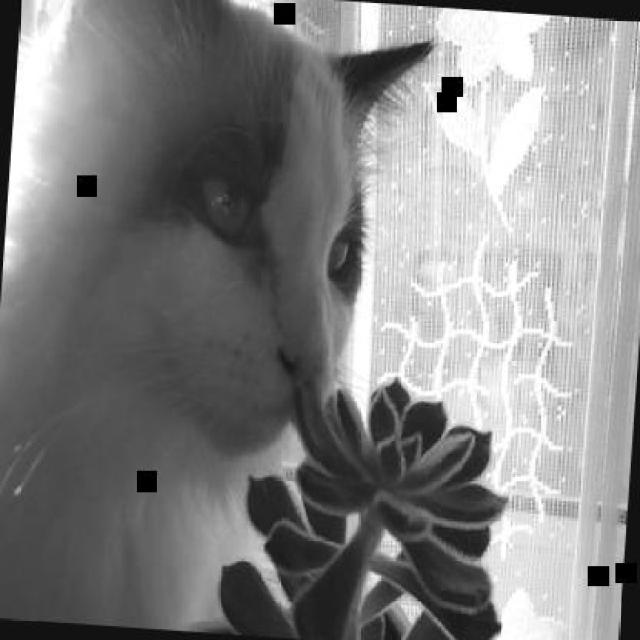cat: (0, 0, 435, 638)
